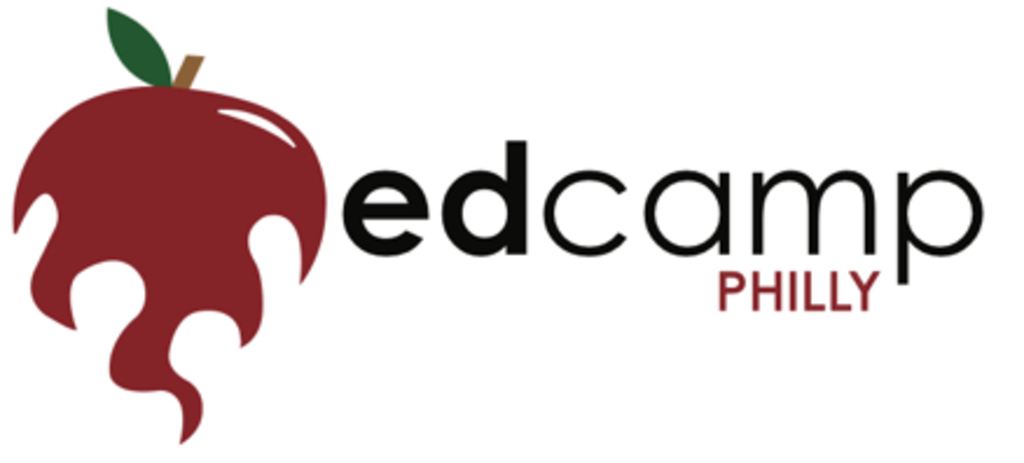Apple: (9, 51, 327, 439)
